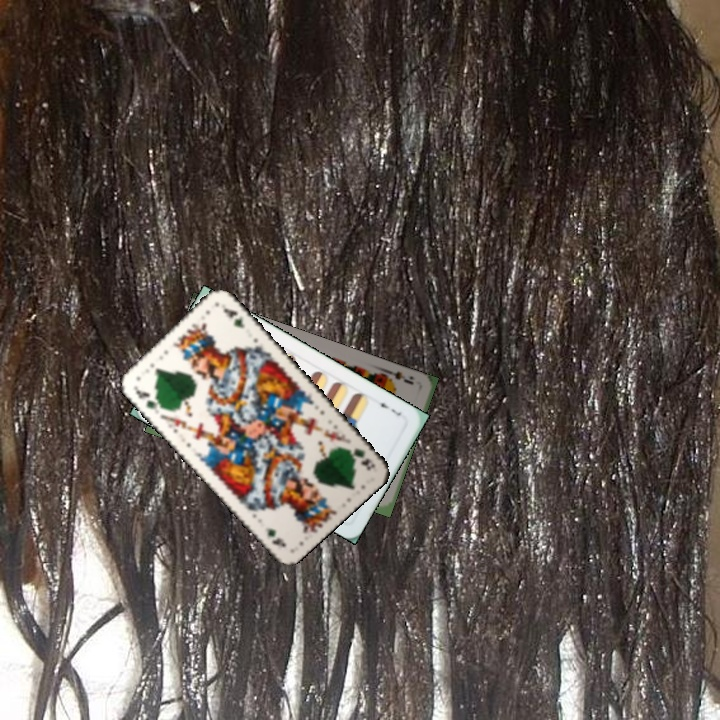E7: (373, 396, 404, 419)
GK: (341, 443, 378, 473), (129, 381, 164, 412)
S9: (380, 365, 416, 387)
